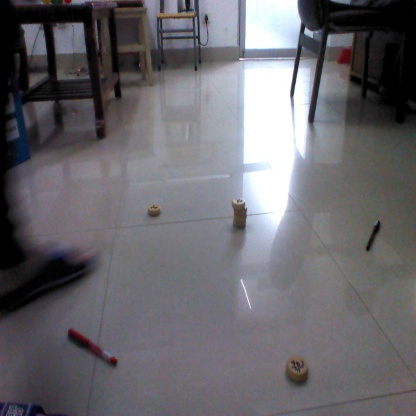chess: (227, 197, 251, 229), (286, 353, 310, 379), (146, 203, 164, 217)
pen: (67, 328, 120, 364), (360, 220, 382, 251)
